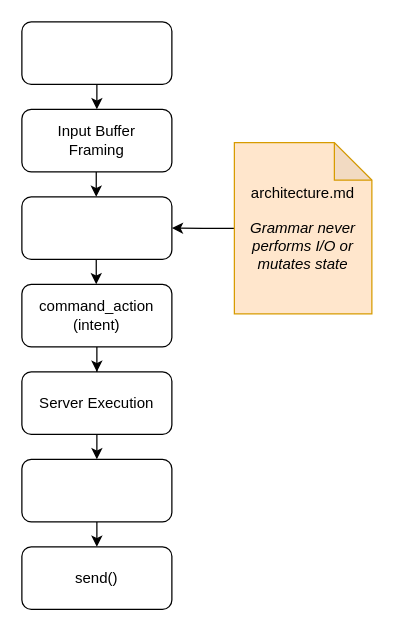
This 394x631 diagram has some shape labels left out. The box of each missing label's shape, as (x1, y1, x2, y2) in pixels:
Broadcast Helpers: (21, 458, 172, 522)
Grammar Parser: (21, 196, 172, 259)
recv(): (21, 21, 172, 84)
